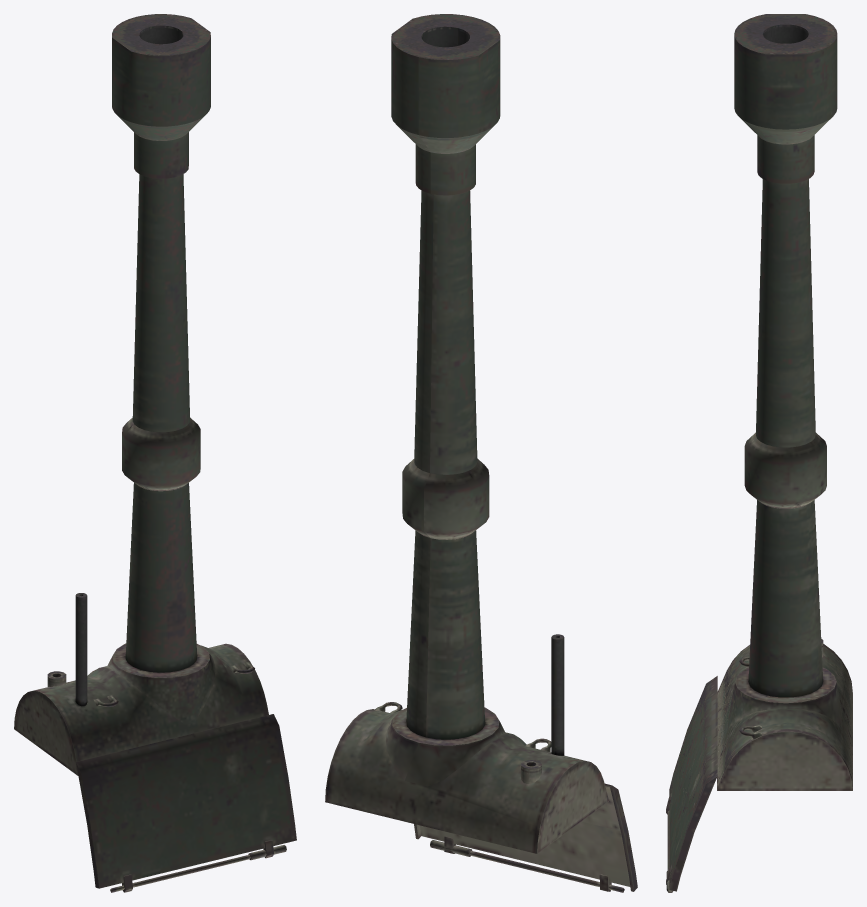
The model's file is Gun_01.glb.
The picture shows the model from 3 angles, left to right: view 1: azimuth 30°, elevation 25°; view 2: azimuth 150°, elevation 25°; view 3: azimuth 270°, elevation 25°; orthographic projection. The views are drawn at different scales.
Visible parts, largest first — view 1: set_0_group_0; view 2: set_0_group_0; view 3: set_0_group_0.
Part boxes in pixels (<box>): set_0_group_0: <box>14,14,296,892</box>; set_0_group_0: <box>325,14,637,892</box>; set_0_group_0: <box>666,14,852,892</box>.
Size of the model in its own units: 0.6675 by 2.56 by 0.5249.
1 material, 1 textured.
